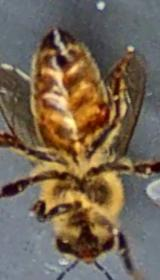varroa_mite: (91, 101, 112, 120)
